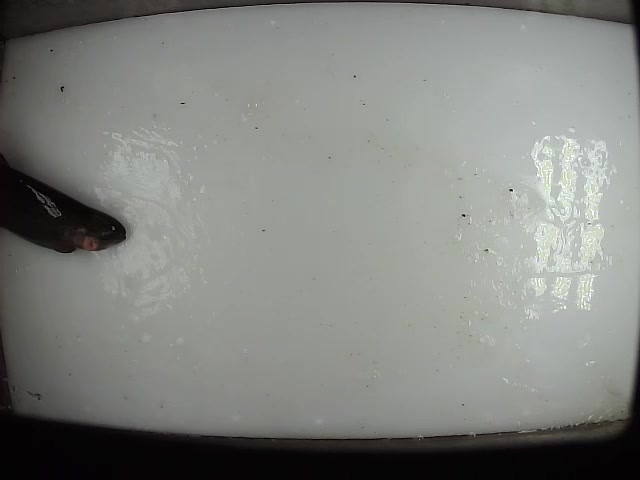fish: (1, 153, 128, 258)
